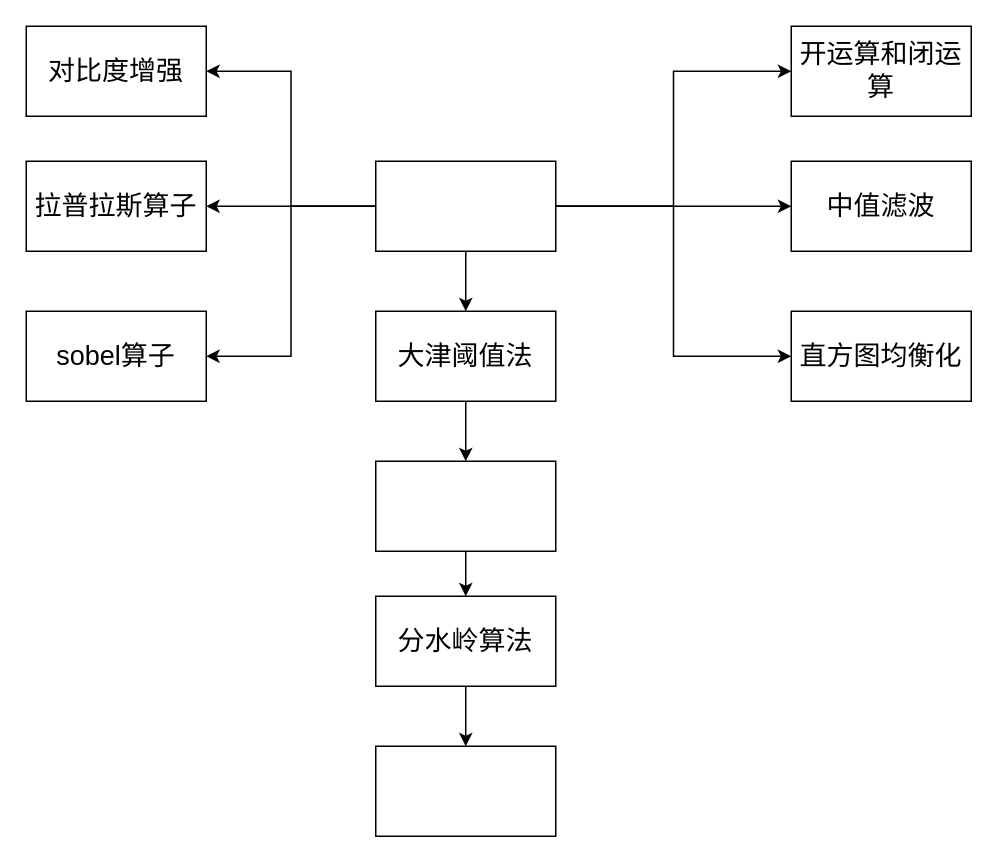
Image size: 998x863. Some labels were removed from this diagram. The box of each missing label's shape, as (x1, y1, x2, y2) in pixels:
图像预处理: (374, 160, 556, 251)
树冠识别: (374, 745, 556, 836)
欧式聚类: (374, 460, 556, 551)
